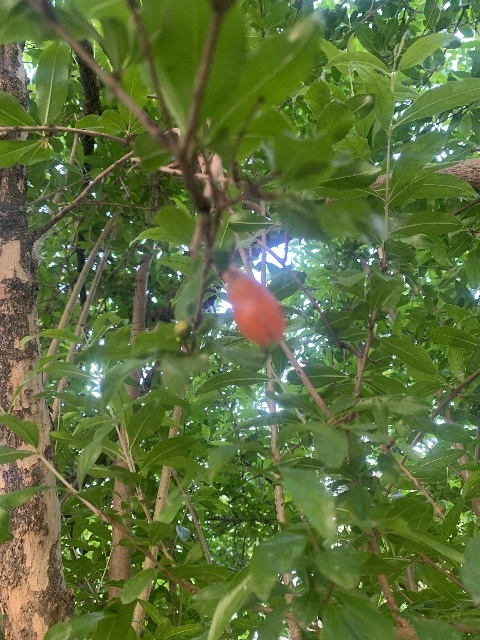bud: (221, 267, 286, 349)
